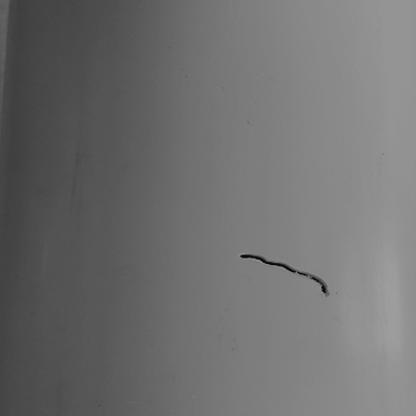fengxi: (239, 253, 331, 298)
